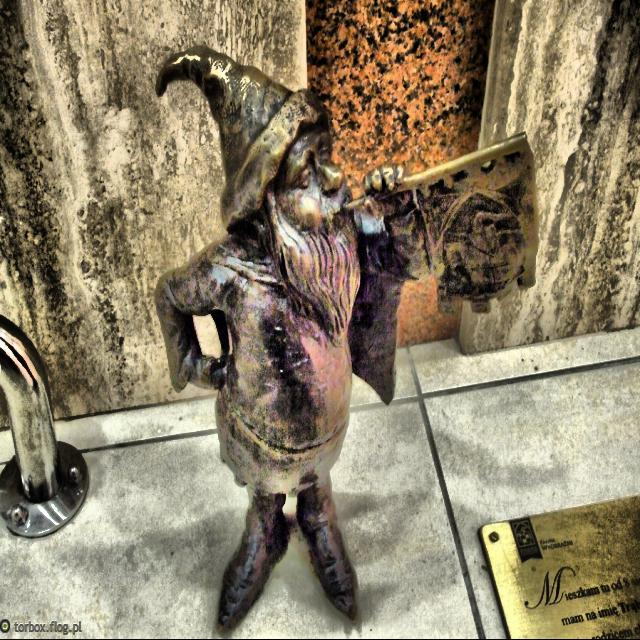Trabibrzuch: (156, 47, 538, 631)
